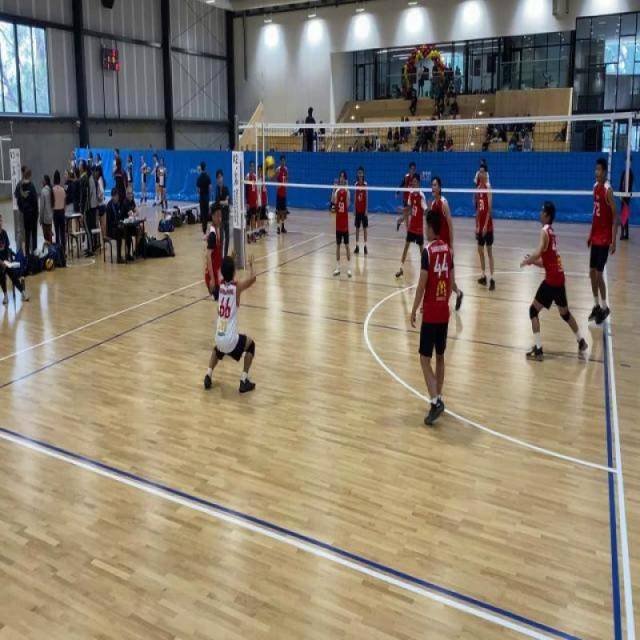volleyball: (263, 154, 276, 180), (46, 257, 54, 272), (163, 230, 171, 238), (75, 119, 82, 128), (147, 234, 154, 242), (330, 206, 336, 213), (146, 167, 151, 174)
